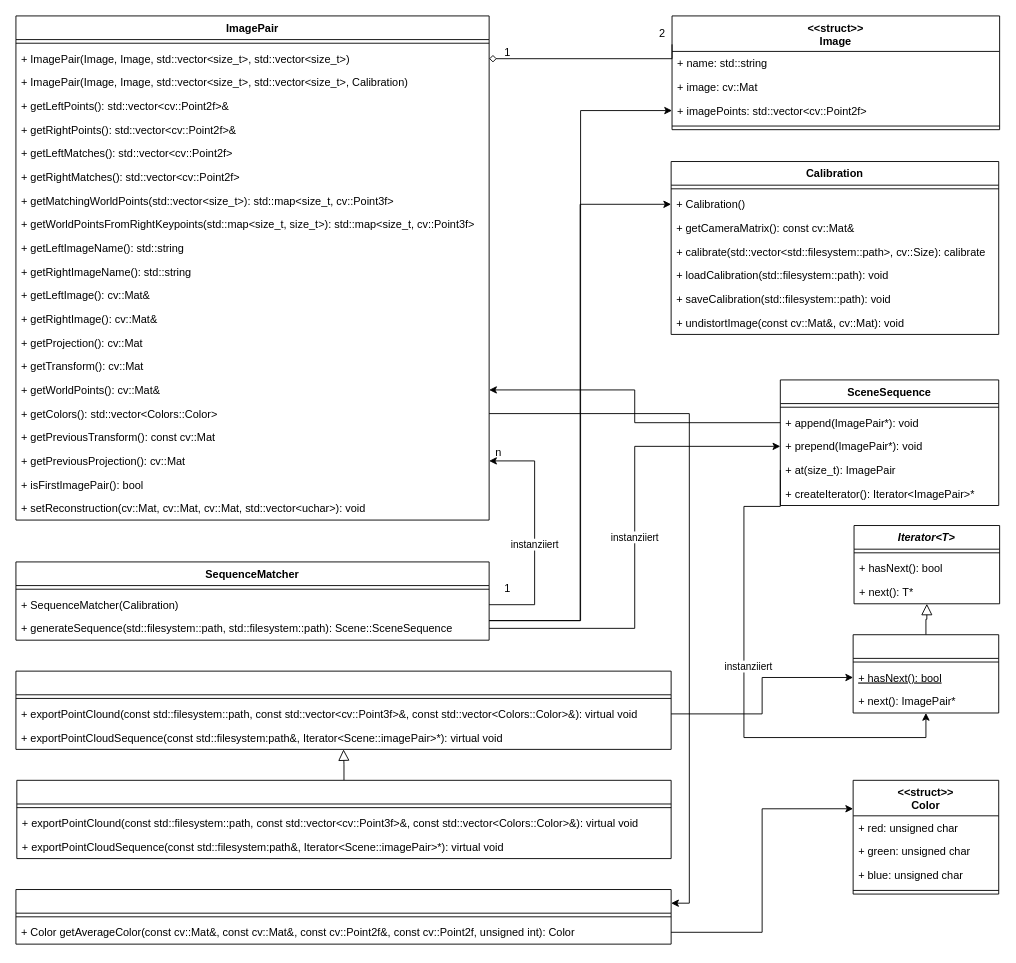
This 1016x963 diagram has some shape labels left out. Here are the shapes that lost their labels. From the top down, the box of each, then its label:
(852, 634, 999, 713): ImageSequenceIterator
(15, 670, 671, 749): ModelExporter
(16, 779, 671, 859): PlyModelExporter
(15, 889, 671, 944): ColorPicker
